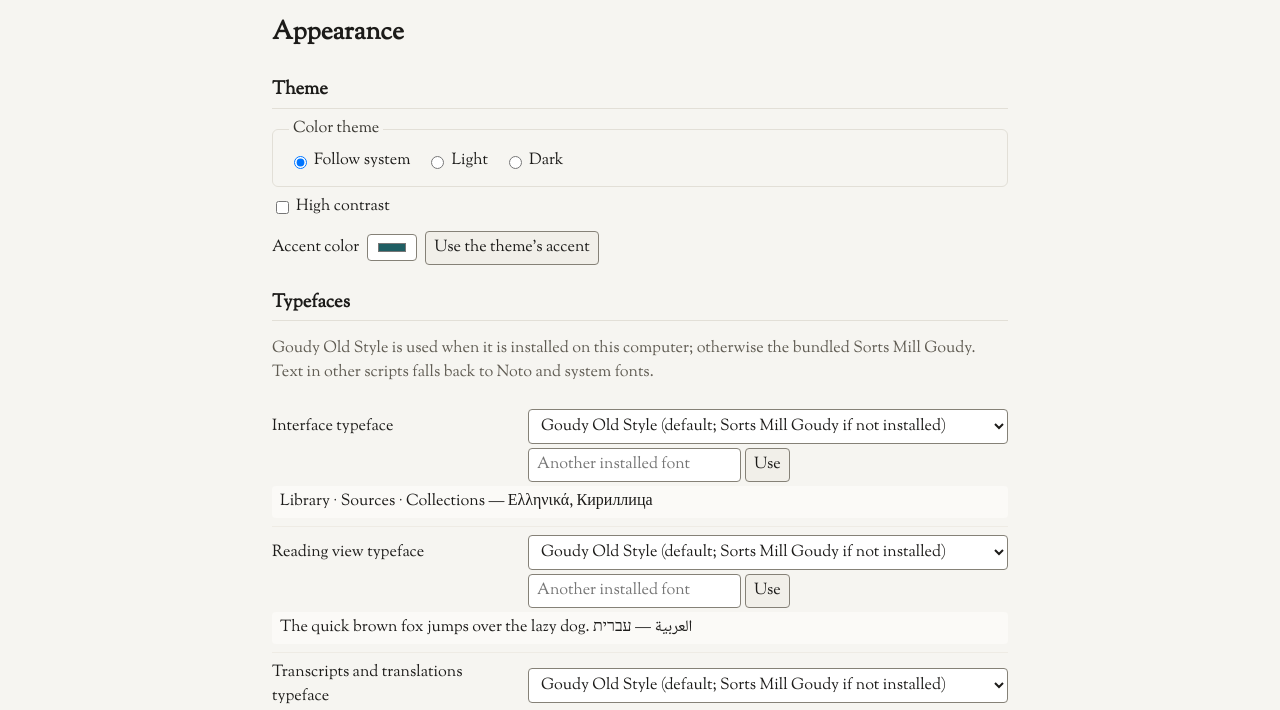
Test: the appearance settings cannot be read (Task 68) › a reset that fails says why inside the dialog
The image size is (1280, 710).
Step 1. Click the radio button labelled "Dark" → (516, 162), box 509,156 -> 522,169
(page scrolled)
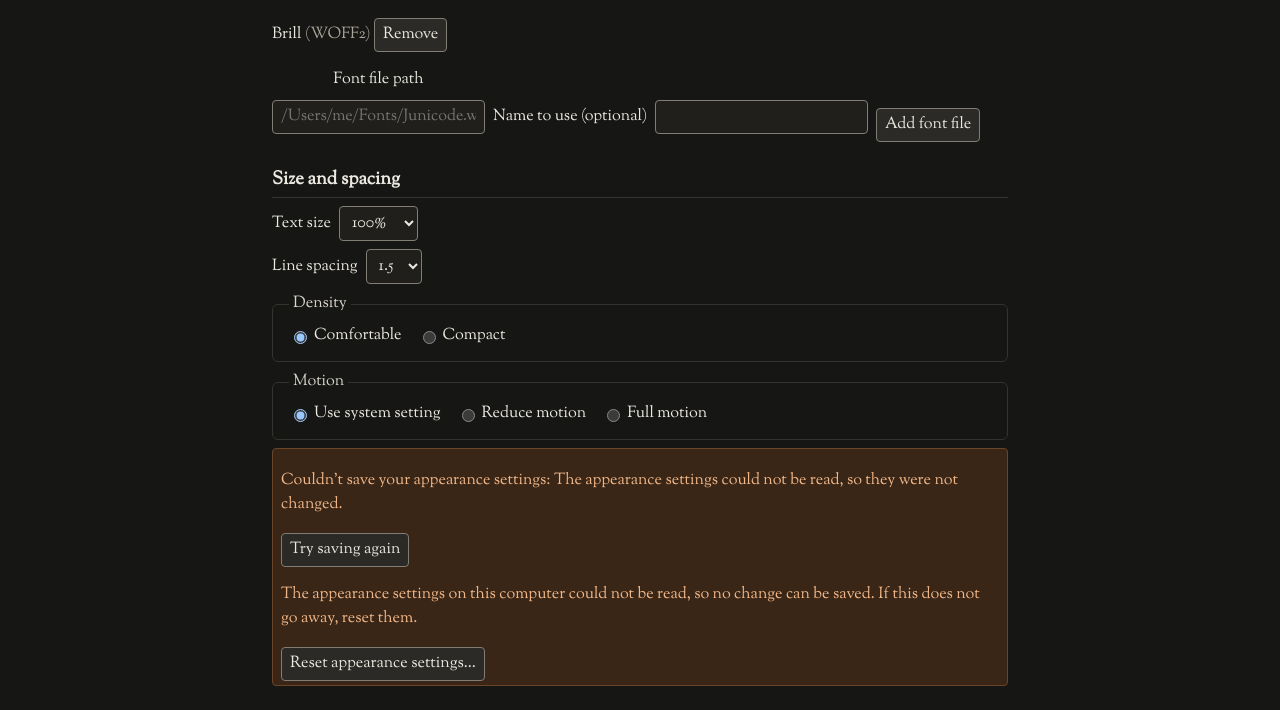
Step 2. Click the button "Reset appearance settings…" → (383, 664), box 281,647 -> 485,681
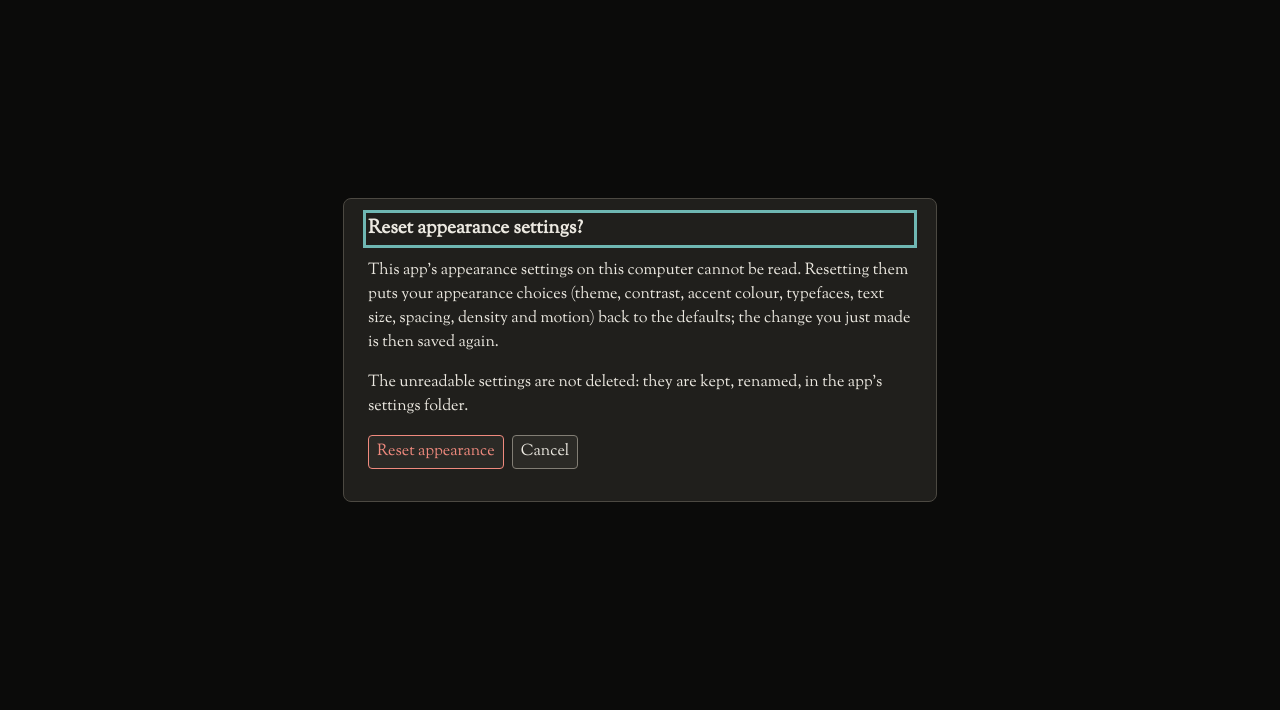
Step 3. Click the button "Reset appearance" → (436, 452), box 368,435 -> 504,469
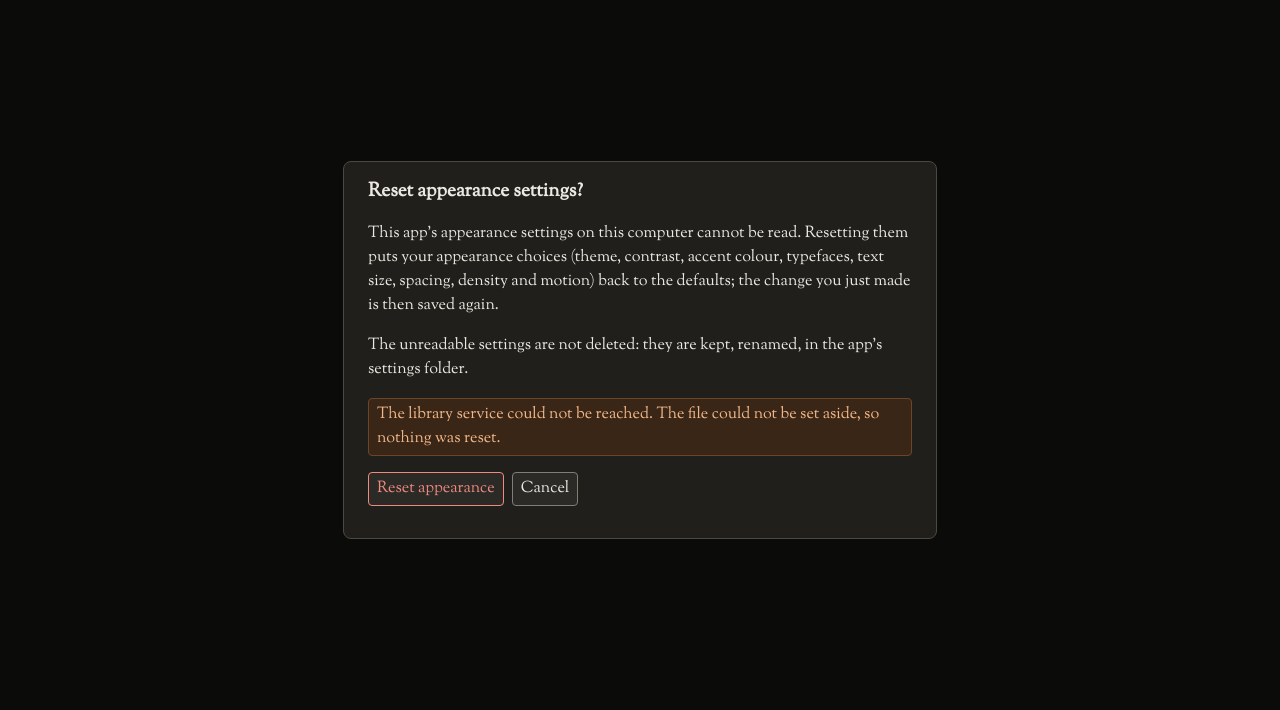
Now the message shows "could not be set aside", box 377,403 -> 879,450
